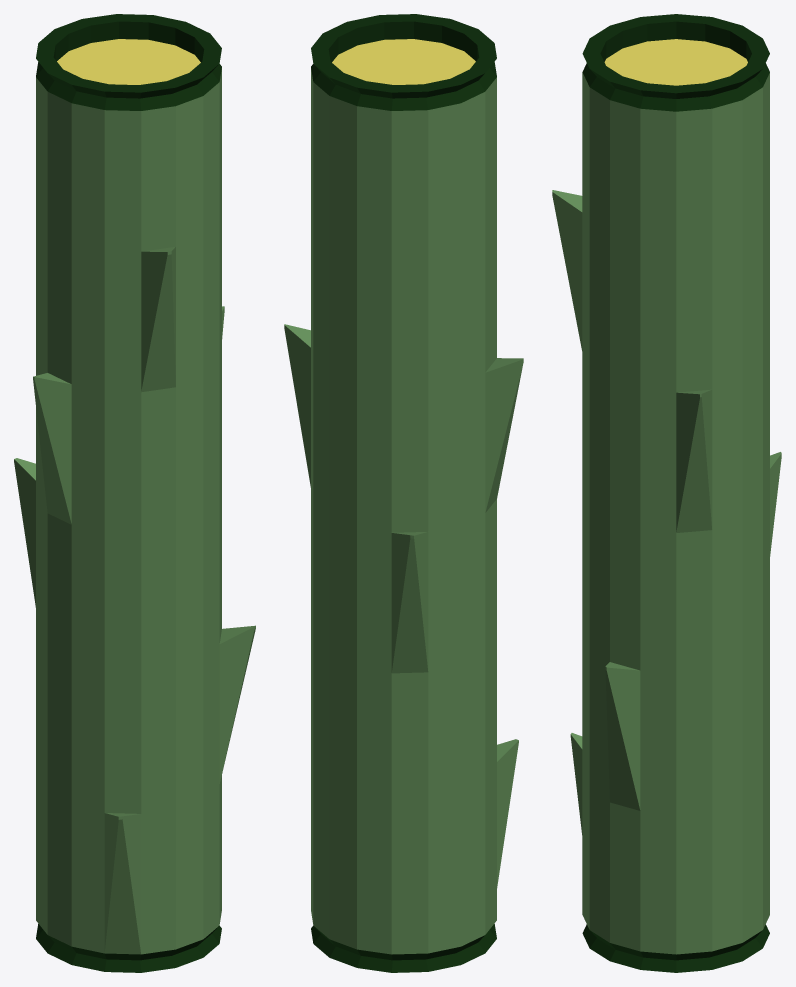
Rendered from Bamboos.fbx.
3 renders of one model, left to right at view 1: azimuth 30°, elevation 25°; view 2: azimuth 150°, elevation 25°; view 3: azimuth 270°, elevation 25°, orthographic.
Visible parts, largest first — view 1: Bamboo; view 2: Bamboo; view 3: Bamboo.
Part boxes in pixels (box(x1,y1,x2,y2)): Bamboo: box(14, 14, 255, 972); Bamboo: box(284, 14, 523, 972); Bamboo: box(552, 14, 781, 972).
Size of the model in its own units: 265 by 1035 by 245.
